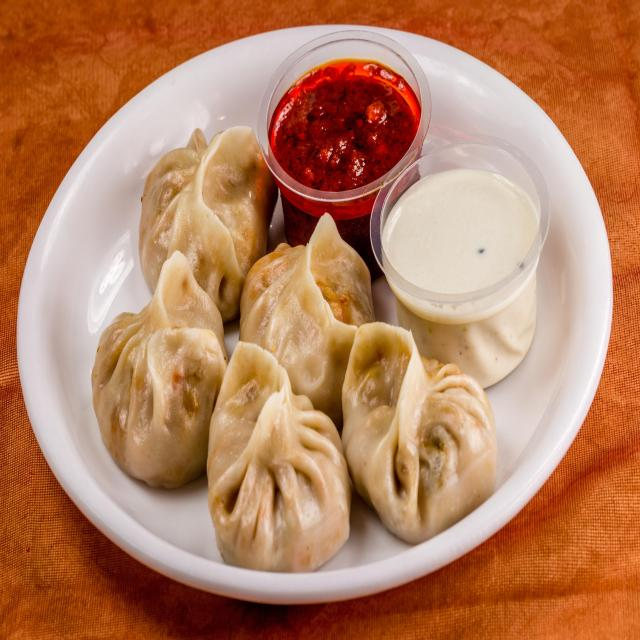momos: (88, 133, 268, 300), (348, 334, 491, 543), (230, 343, 344, 569)
